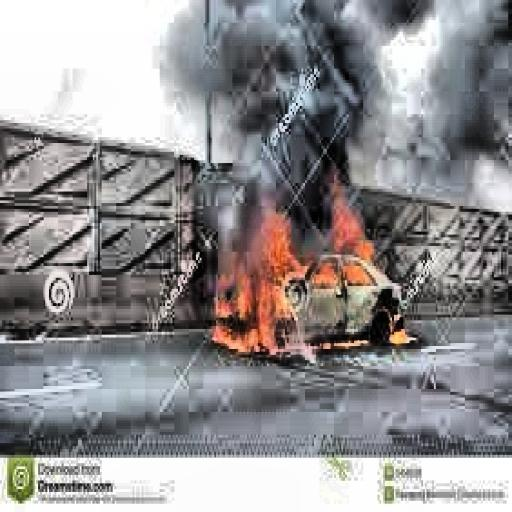fire: (214, 186, 416, 383)
